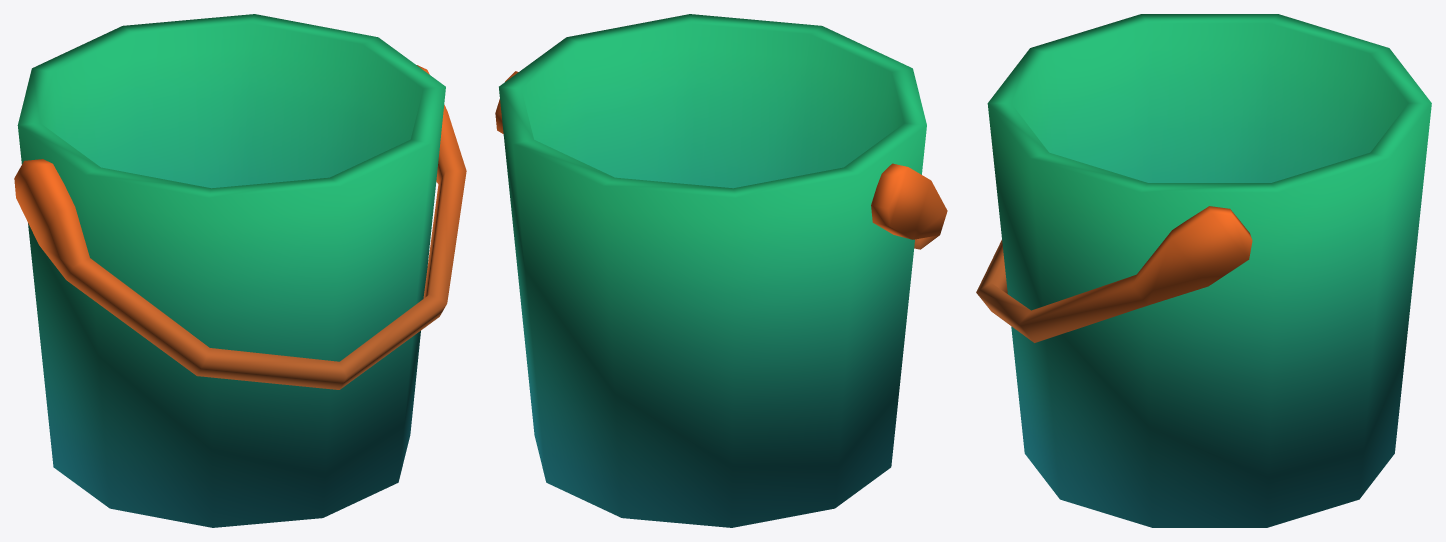
The model's file is bucket.fbx.
The picture shows the model from 3 angles, left to right: view 1: azimuth 30°, elevation 25°; view 2: azimuth 150°, elevation 25°; view 3: azimuth 270°, elevation 25°; orthographic projection.
Parts seen in each view (by area): view 1: Bucket; view 2: Bucket; view 3: Bucket.
Part boxes in pixels (<box>): Bucket: <box>14,14,466,527</box>; Bucket: <box>495,14,947,527</box>; Bucket: <box>976,14,1431,527</box>.
Size of the model in its own units: 995 by 835 by 985.
